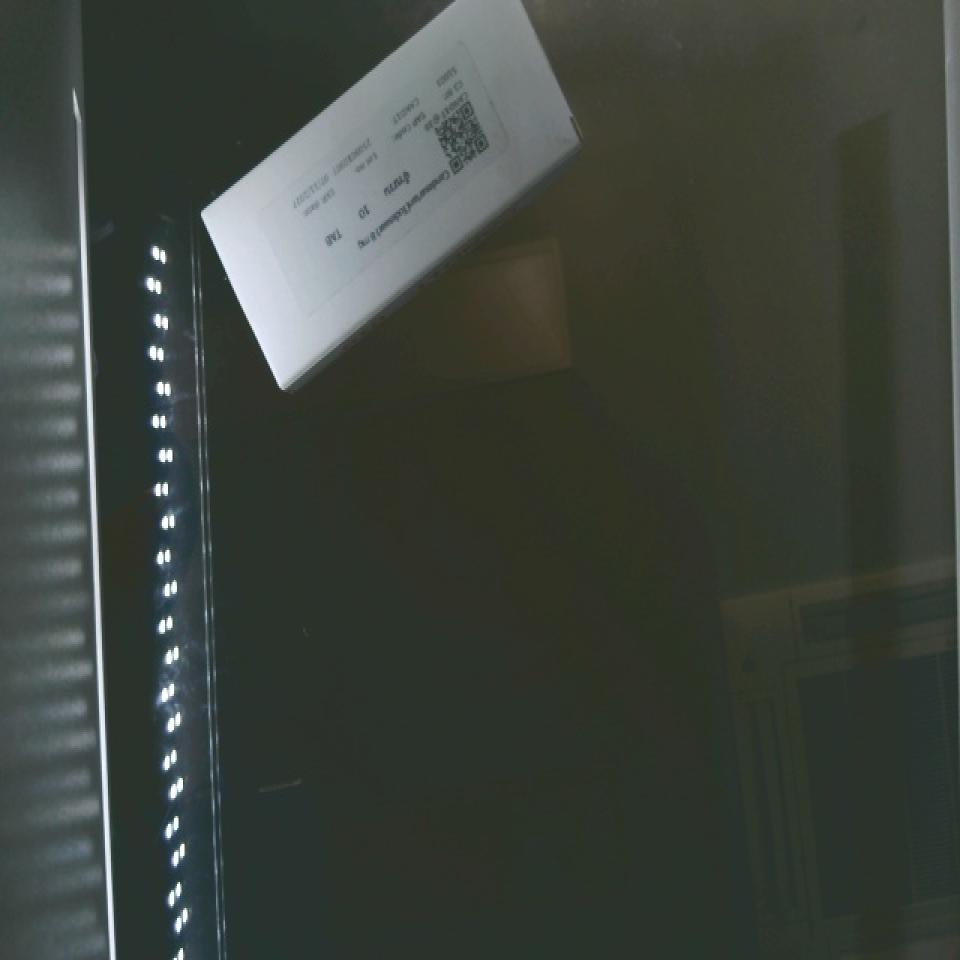medicine_box: (160, 0, 611, 388)
qr_code: (405, 76, 519, 197)
